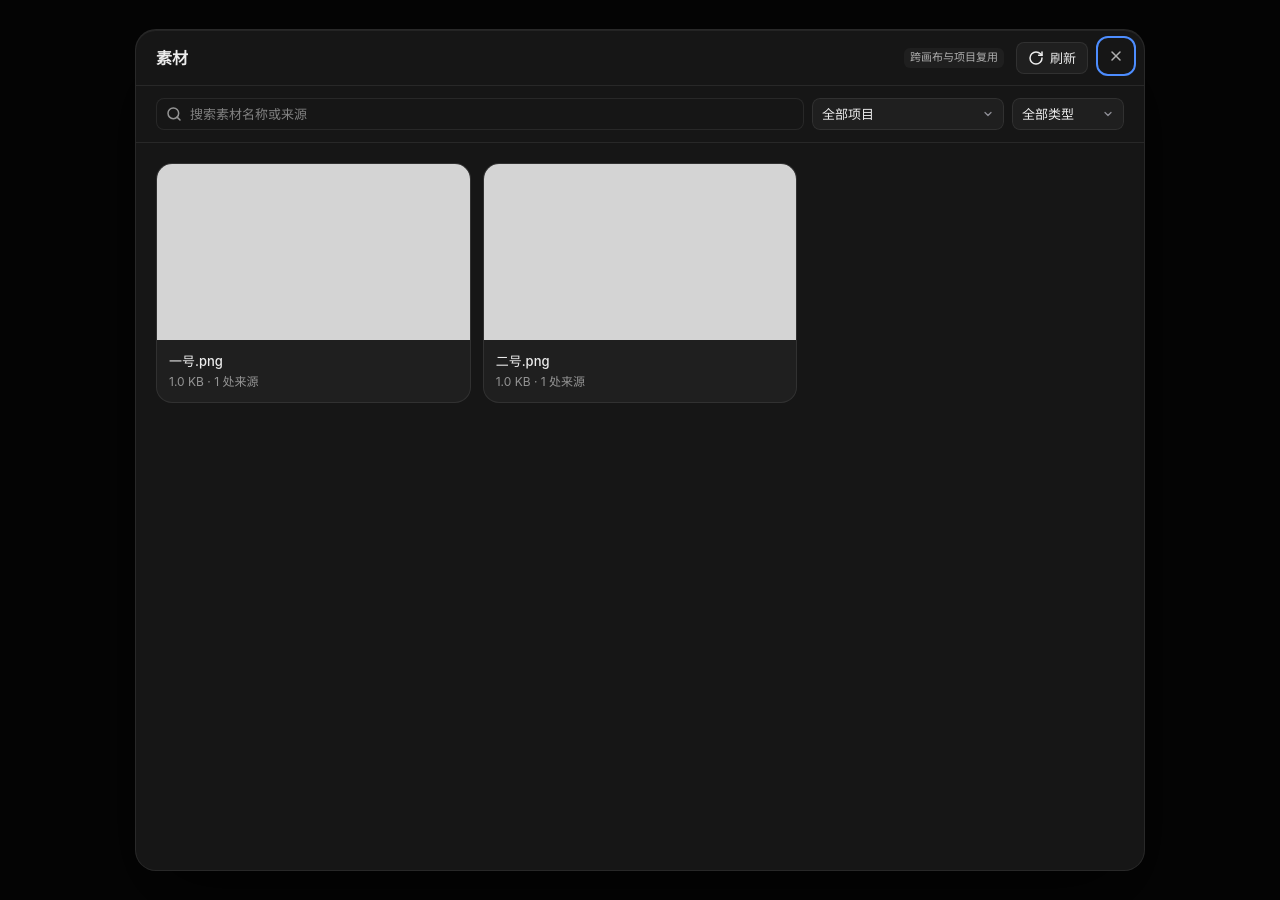
Test case: 素材面板的来源 › 换素材时取消旧的来源请求，迟到结果不会写回新素材
The width and height of the screenshot is (1280, 900).
Click the button with aria-label "查看素材 一号.png": (313, 283) [156, 163, 471, 403]
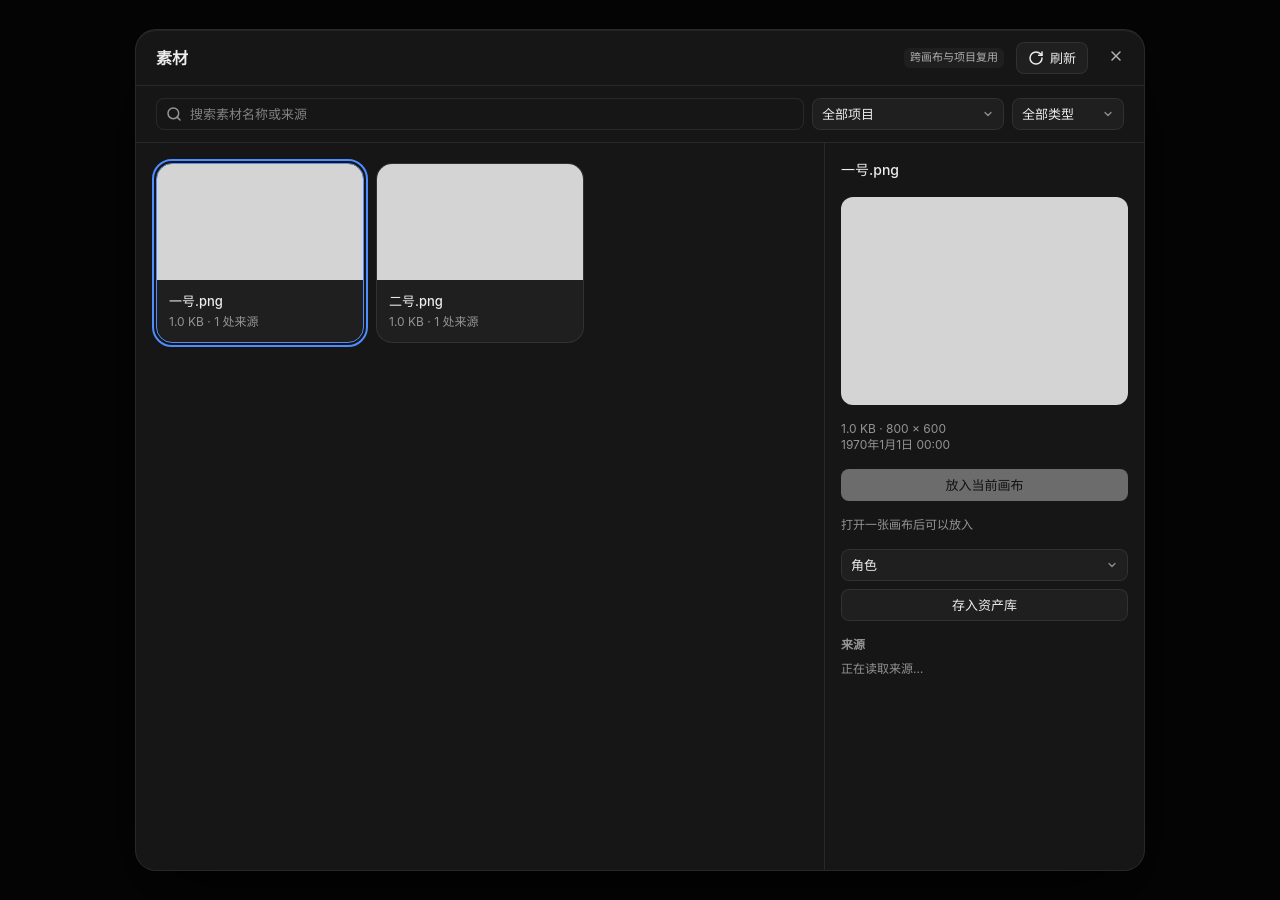
Check: the heading "来源" is shown, box [841, 637, 865, 652]
Click the button with aria-label "查看素材 二号.png": (480, 253) [376, 163, 584, 343]
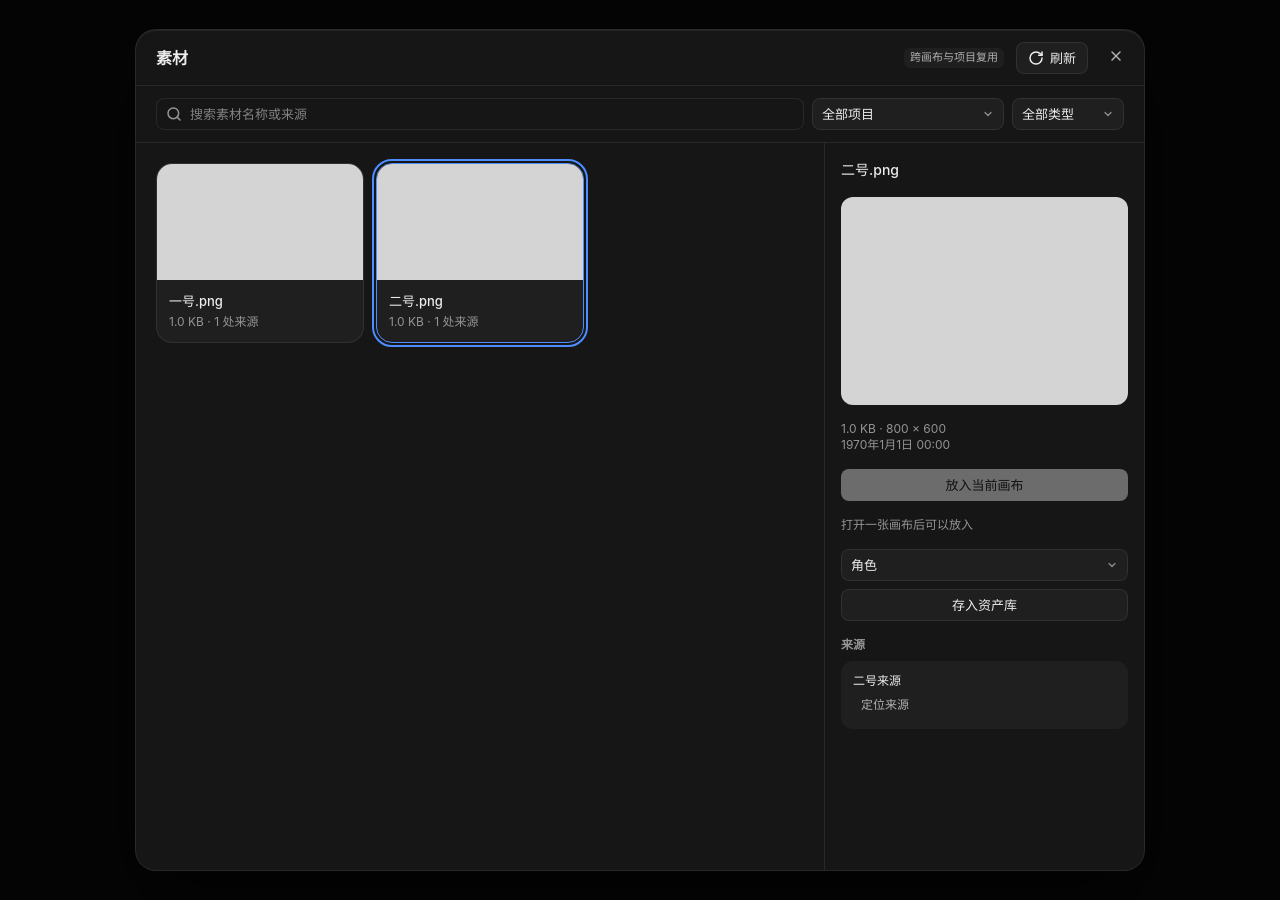
Check: the text "二号来源" is shown, box [853, 673, 901, 688]
